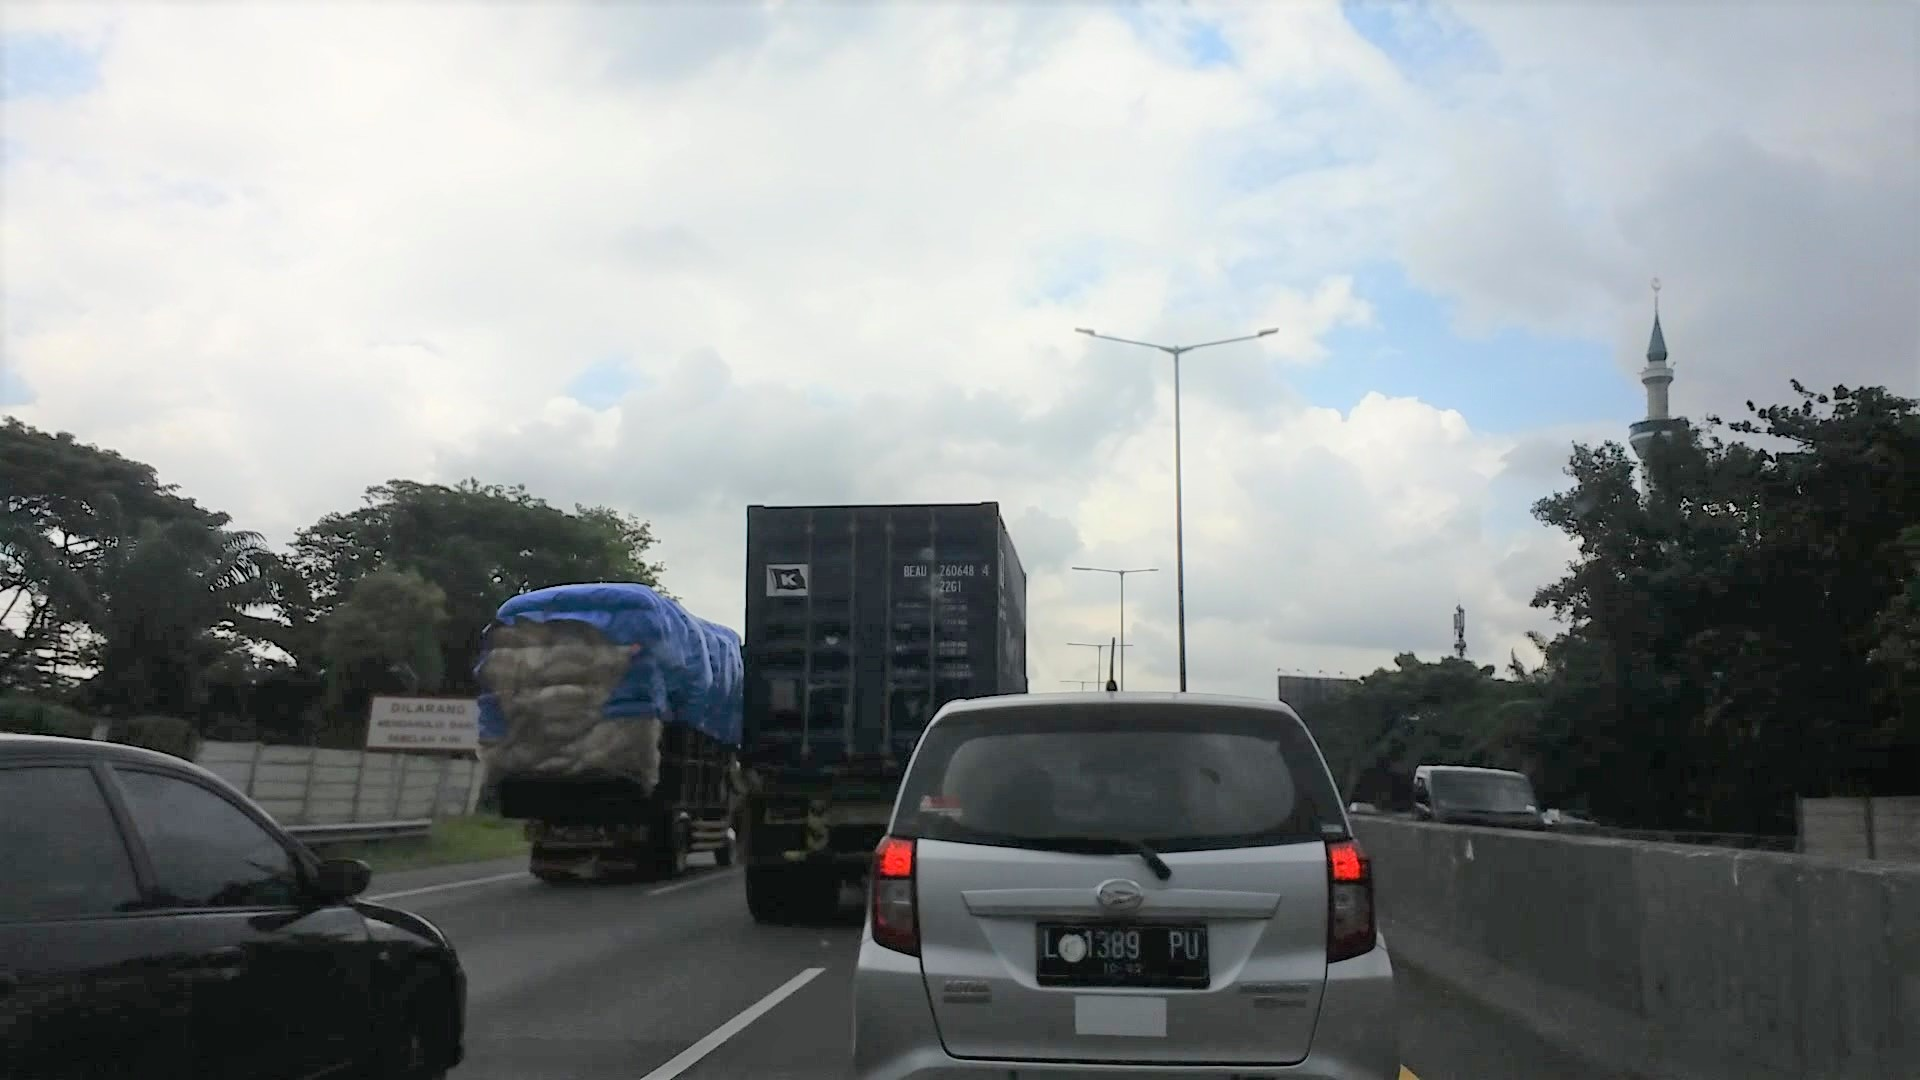plate_positive: (1035, 920, 1211, 989)
